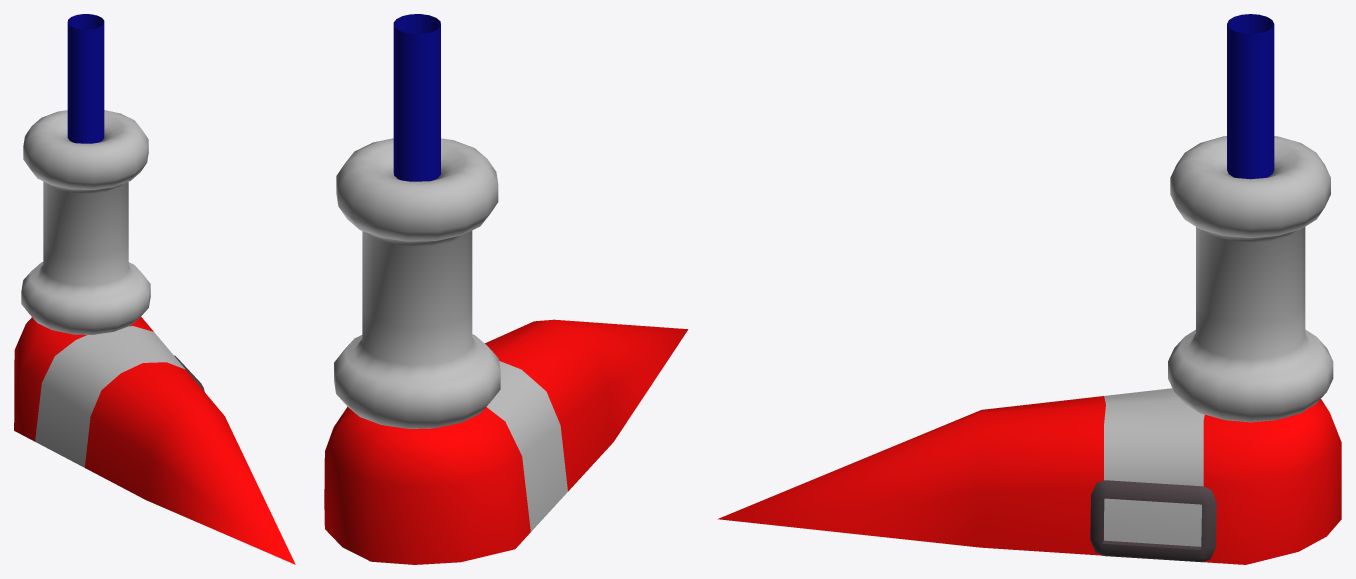
The model's file is SonicLeftLeg.obj.
The picture shows the model from 3 angles, left to right: view 1: azimuth 30°, elevation 25°; view 2: azimuth 150°, elevation 25°; view 3: azimuth 270°, elevation 25°; orthographic projection. The views are drawn at different scales.
Visible parts, largest first — view 1: Polygon_2_2.001, Cylinder_3.001; view 2: Polygon_2_2.001, Cylinder_3.001; view 3: Polygon_2_2.001, Cylinder_3.001, Plane_2.001.
Boxes of the visible parts, left/top/right/bottom form: Polygon_2_2.001: left=14, top=317, right=295, bottom=564; Cylinder_3.001: left=21, top=14, right=150, bottom=334; Polygon_2_2.001: left=324, top=319, right=688, bottom=564; Cylinder_3.001: left=334, top=14, right=500, bottom=428; Polygon_2_2.001: left=717, top=388, right=1341, bottom=564; Cylinder_3.001: left=1168, top=14, right=1333, bottom=422; Plane_2.001: left=1090, top=480, right=1216, bottom=562.
Bounding box in the file's own units: 0.73 × 1.83 × 2.09.
